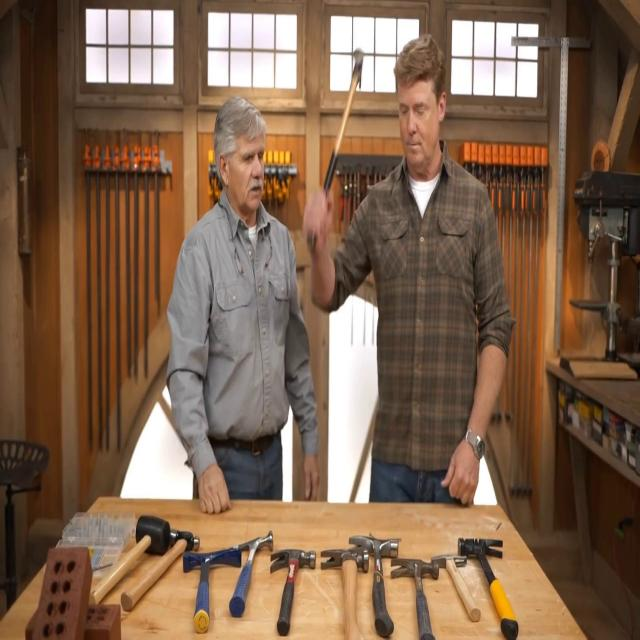hammer: (307, 48, 364, 254), (89, 514, 170, 608), (121, 526, 200, 612), (458, 537, 518, 640), (183, 544, 241, 634), (349, 534, 399, 638), (320, 547, 369, 640), (390, 556, 440, 640), (270, 547, 316, 637), (230, 530, 274, 618), (431, 553, 481, 622)
